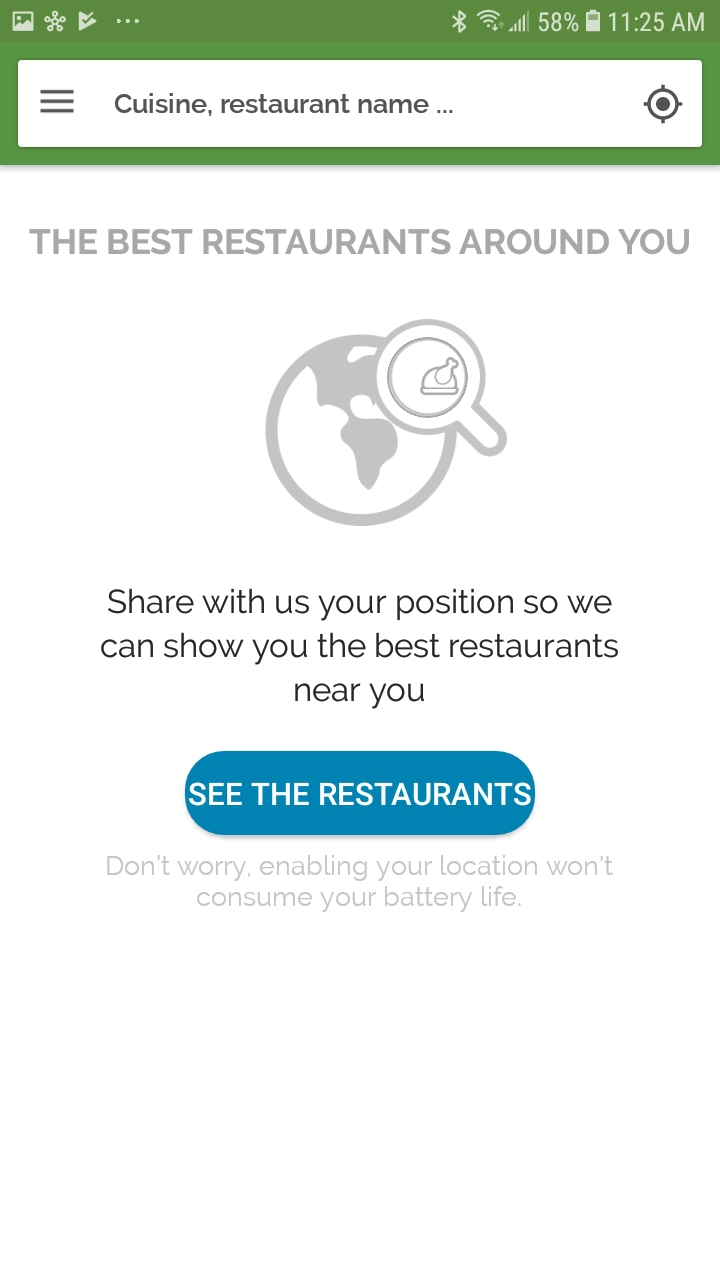EditText: (18, 60, 703, 148)
Icon: (265, 319, 508, 527), (643, 85, 683, 125), (40, 90, 76, 115)
Text: (101, 588, 619, 710), (108, 854, 614, 913), (29, 229, 690, 256), (115, 94, 453, 117)
TextButton: (185, 750, 536, 836)
UpperTaskBar: (1, 1, 720, 43)
